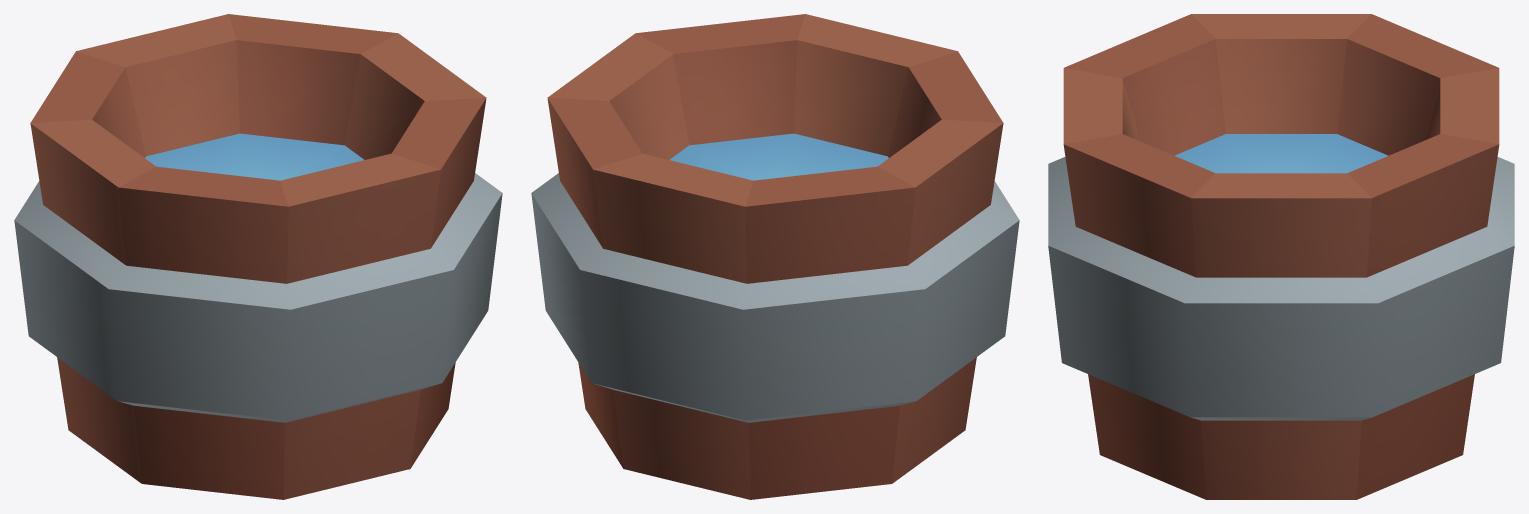
Rendered from bucket_water.glb.
3 views of the same model, side by side, from view 1: azimuth 30°, elevation 25°; view 2: azimuth 150°, elevation 25°; view 3: azimuth 270°, elevation 25° (orthographic). The views are drawn at different scales.
Parts seen in each view (by area): view 1: bucket_water; view 2: bucket_water; view 3: bucket_water.
Part boxes in pixels (box(x1,y1,x2,y2)): bucket_water: box(14, 14, 502, 499); bucket_water: box(531, 14, 1019, 499); bucket_water: box(1048, 14, 1514, 499).
Size of the model in its own units: 0.14 by 0.105 by 0.14.
1 material, 1 textured.
